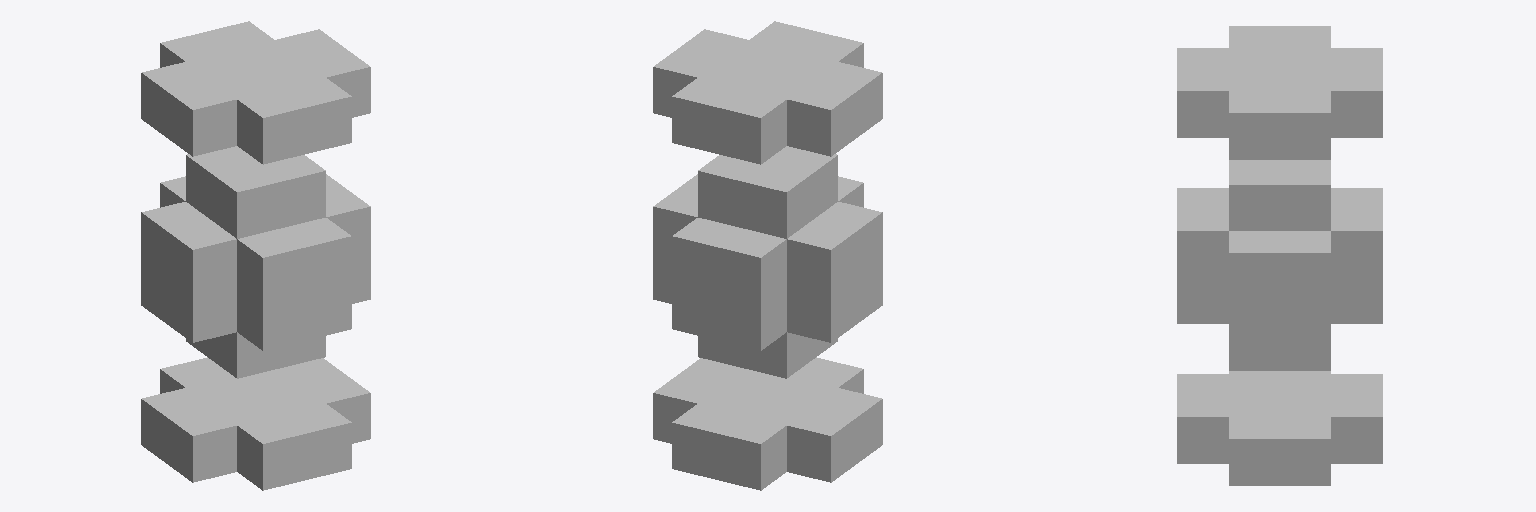
The model's file is data drive.obj.
The picture shows the model from 3 angles: view 1: azimuth 30°, elevation 25°; view 2: azimuth 150°, elevation 25°; view 3: azimuth 270°, elevation 25°; orthographic projection.
Parts seen in each view (by area): view 1: object 1; view 2: object 1; view 3: object 1.
Part boxes in pixels (x1,y1,x2,y2): object 1: (141, 21, 370, 490); object 1: (653, 21, 882, 490); object 1: (1177, 26, 1382, 485).
Bounding box in the file's own units: 0.4 × 0.8 × 0.4.